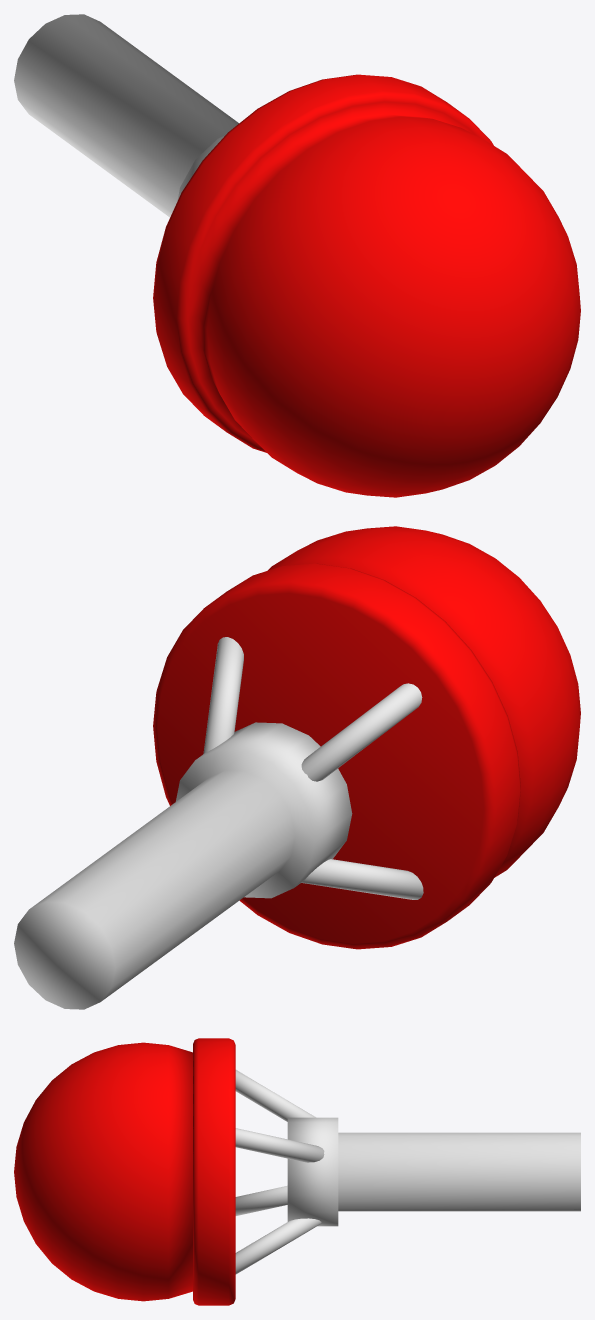
File: Bumper_Red_giant.glb
3 views of the same model, one above another, from view 1: azimuth 30°, elevation 25°; view 2: azimuth 150°, elevation 25°; view 3: azimuth 270°, elevation 25° (orthographic). The views are drawn at different scales.
Parts seen in each view (by area): view 1: Bumper_Red_giant; view 2: Bumper_Red_giant; view 3: Bumper_Red_giant.
Boxes of the visible parts, box(x1,y1,x2,y2) form: Bumper_Red_giant: box(14, 14, 580, 497); Bumper_Red_giant: box(14, 526, 580, 1009); Bumper_Red_giant: box(14, 1038, 580, 1305).
Bounding box in the file's own units: 5.36 × 5.36 × 11.37.
